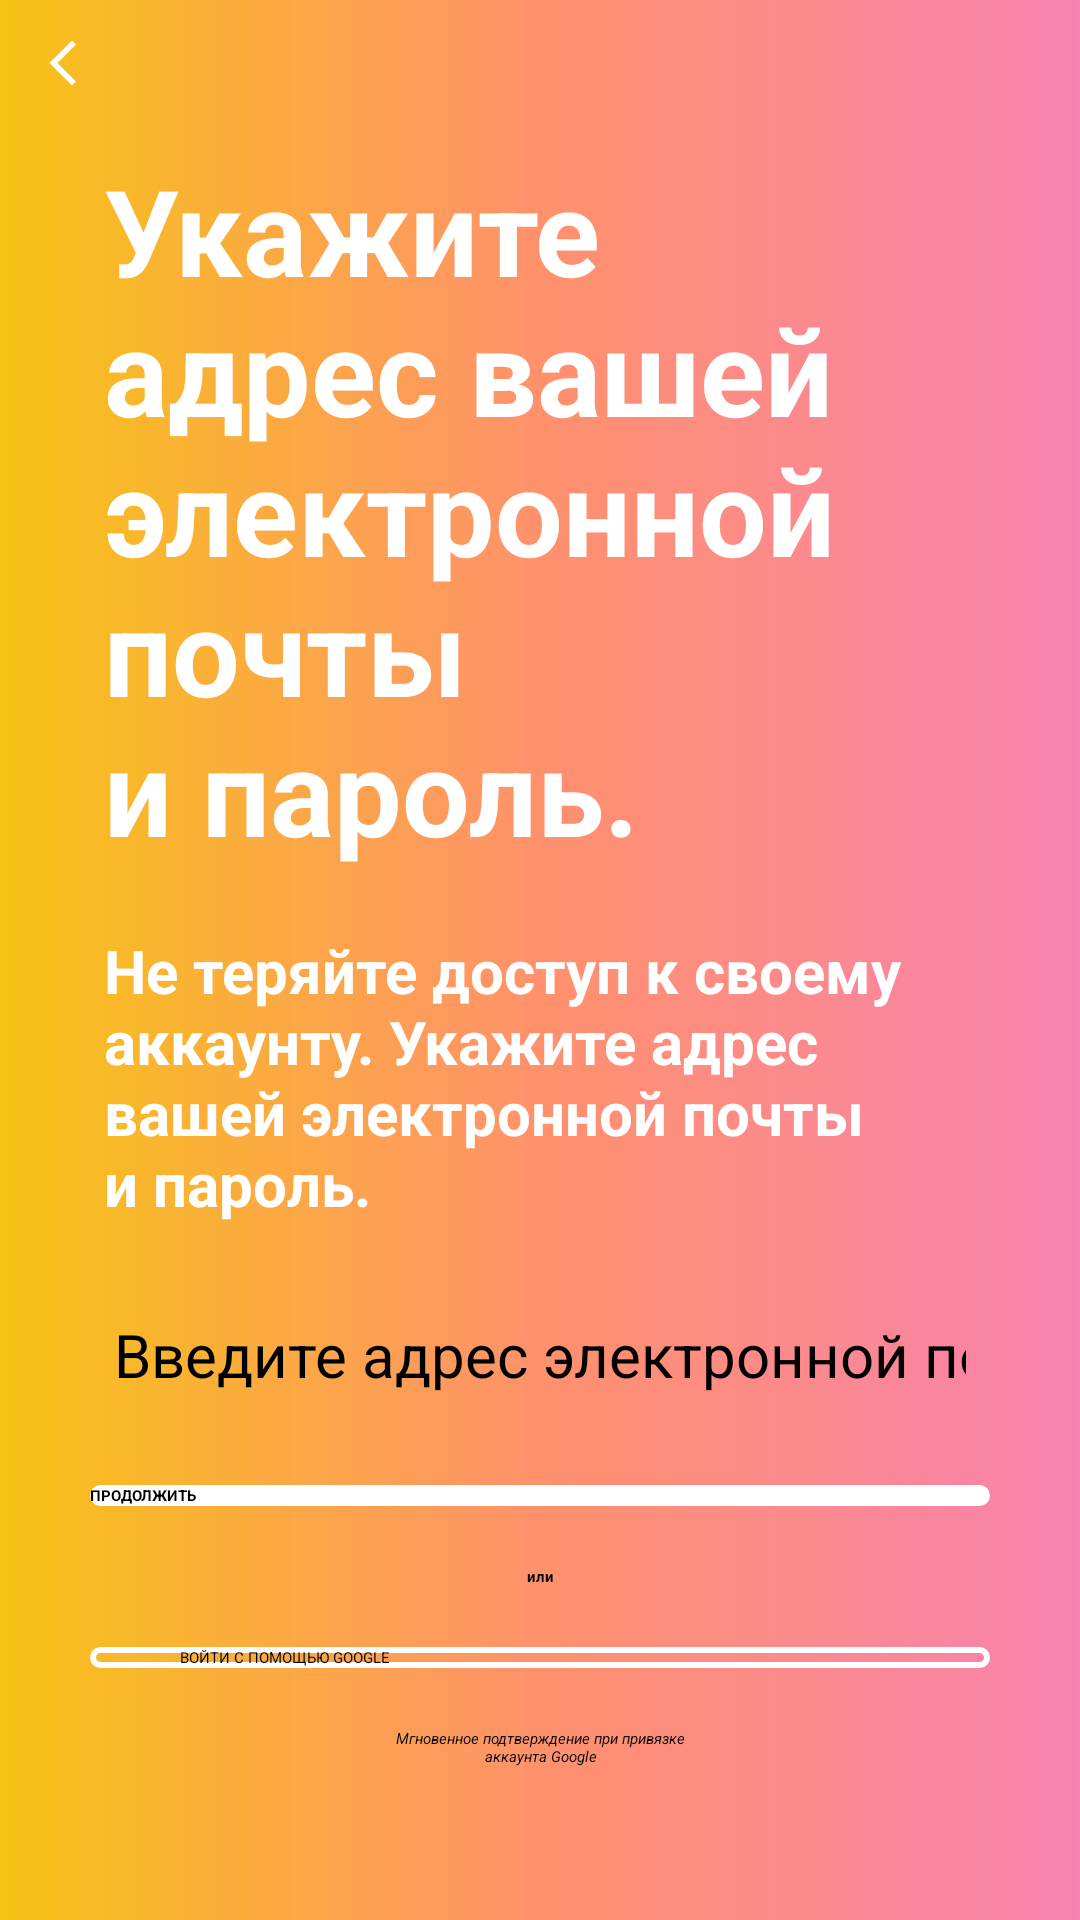

Icon click points for this 1080w x 1920h phone screenshot, format point (x, y):
back: point (63, 63)
